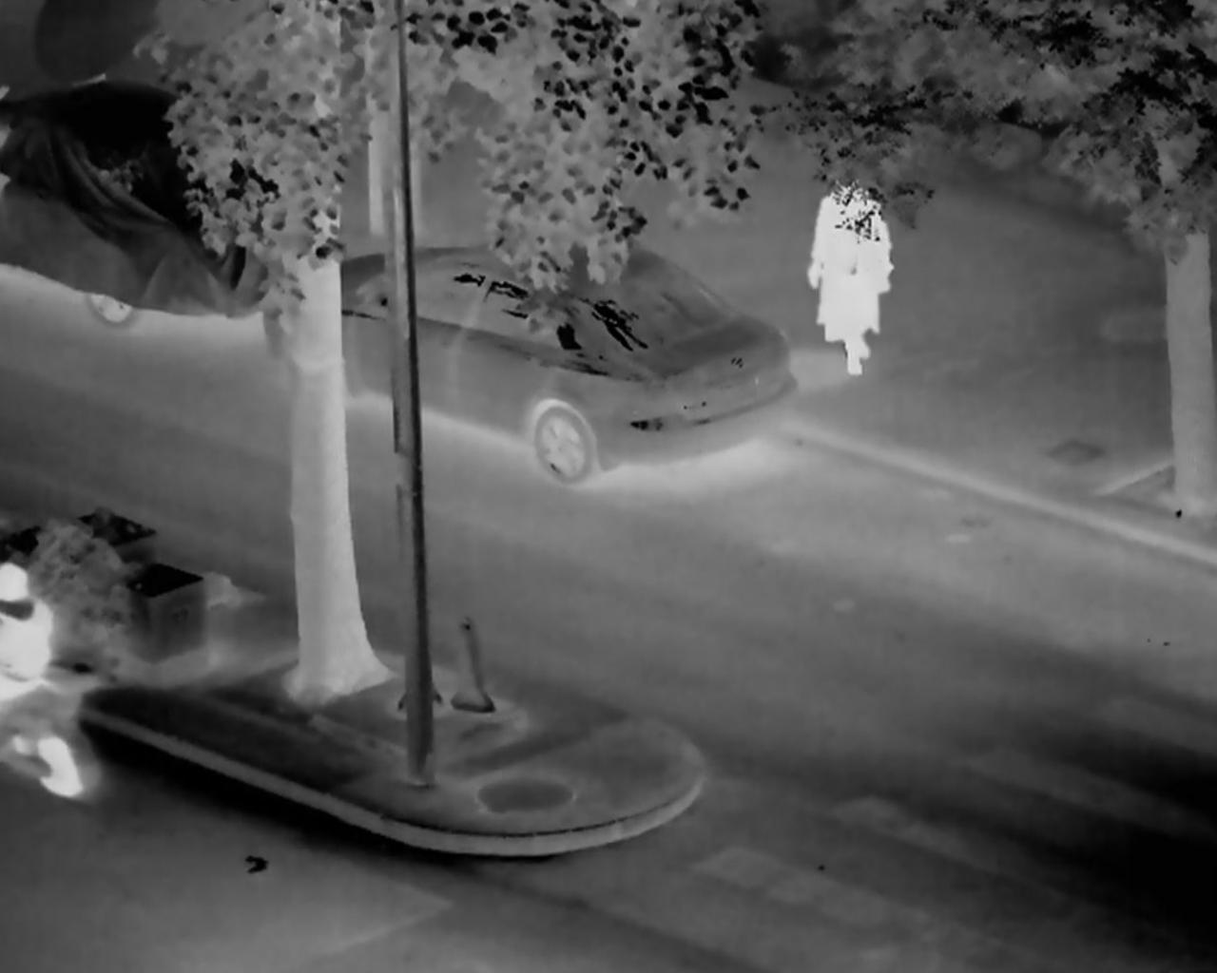person: (804, 141, 906, 371), (3, 552, 82, 790)
